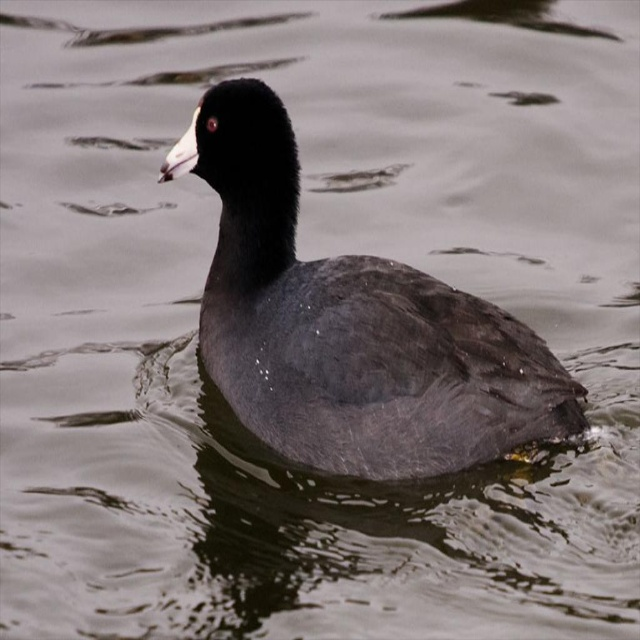Duck: (157, 77, 591, 479)
